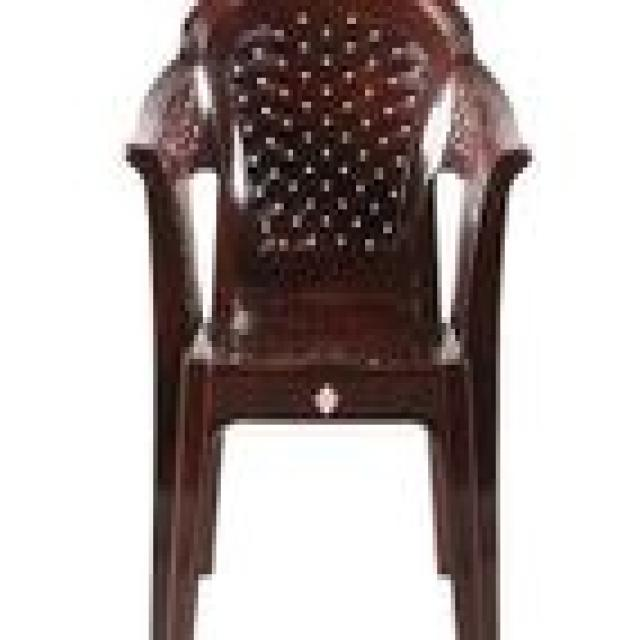others: (109, 6, 546, 640)
